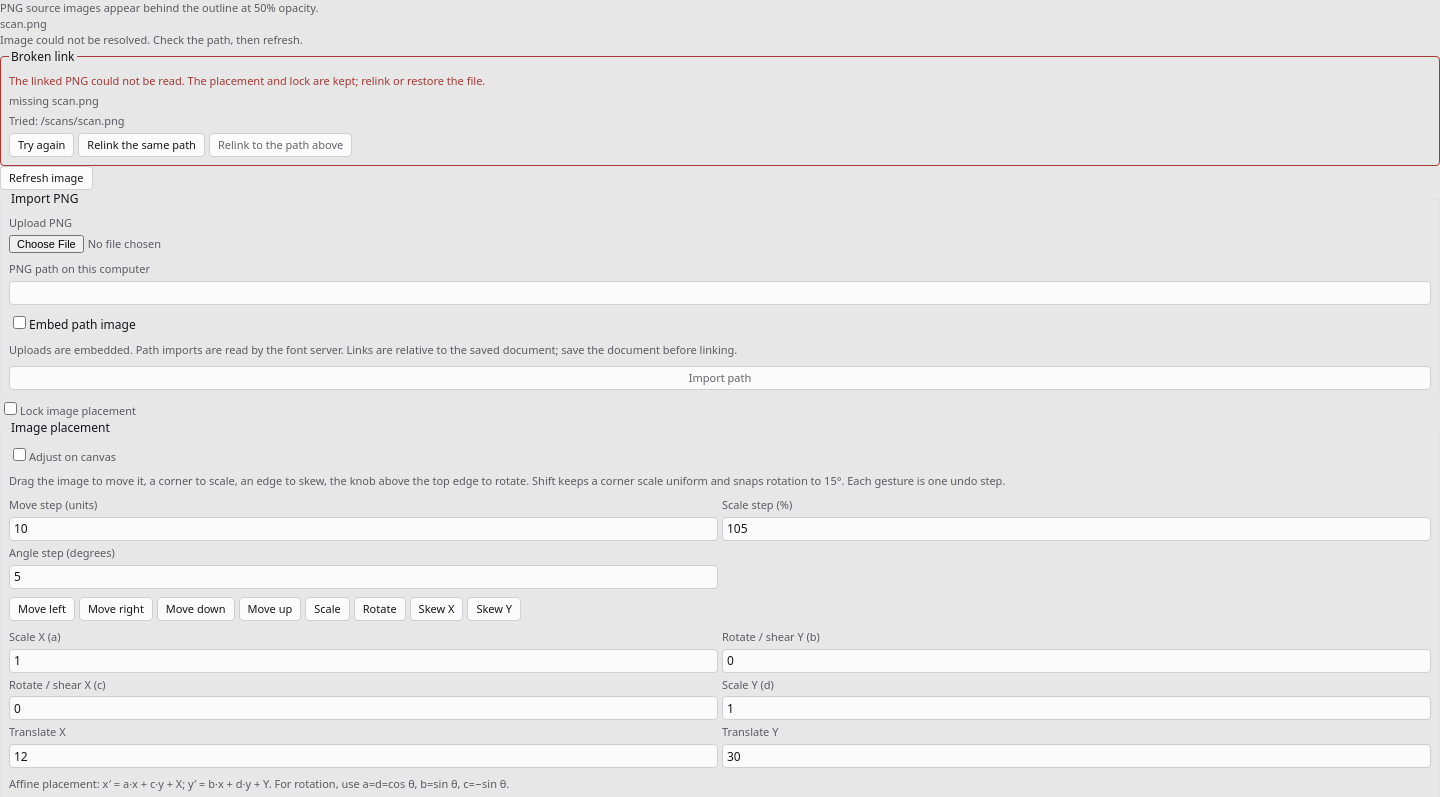
offers the resolved path and relinks a broken link in one import
The image size is (1440, 797).
Check: the text "Tried: /scans/scan.png" is shown, box [9, 113, 124, 128]
Check: the text "Broken link" is shown, box [9, 48, 76, 65]
Click the button "Relink the same path" at (142,145), box [78, 133, 205, 157]
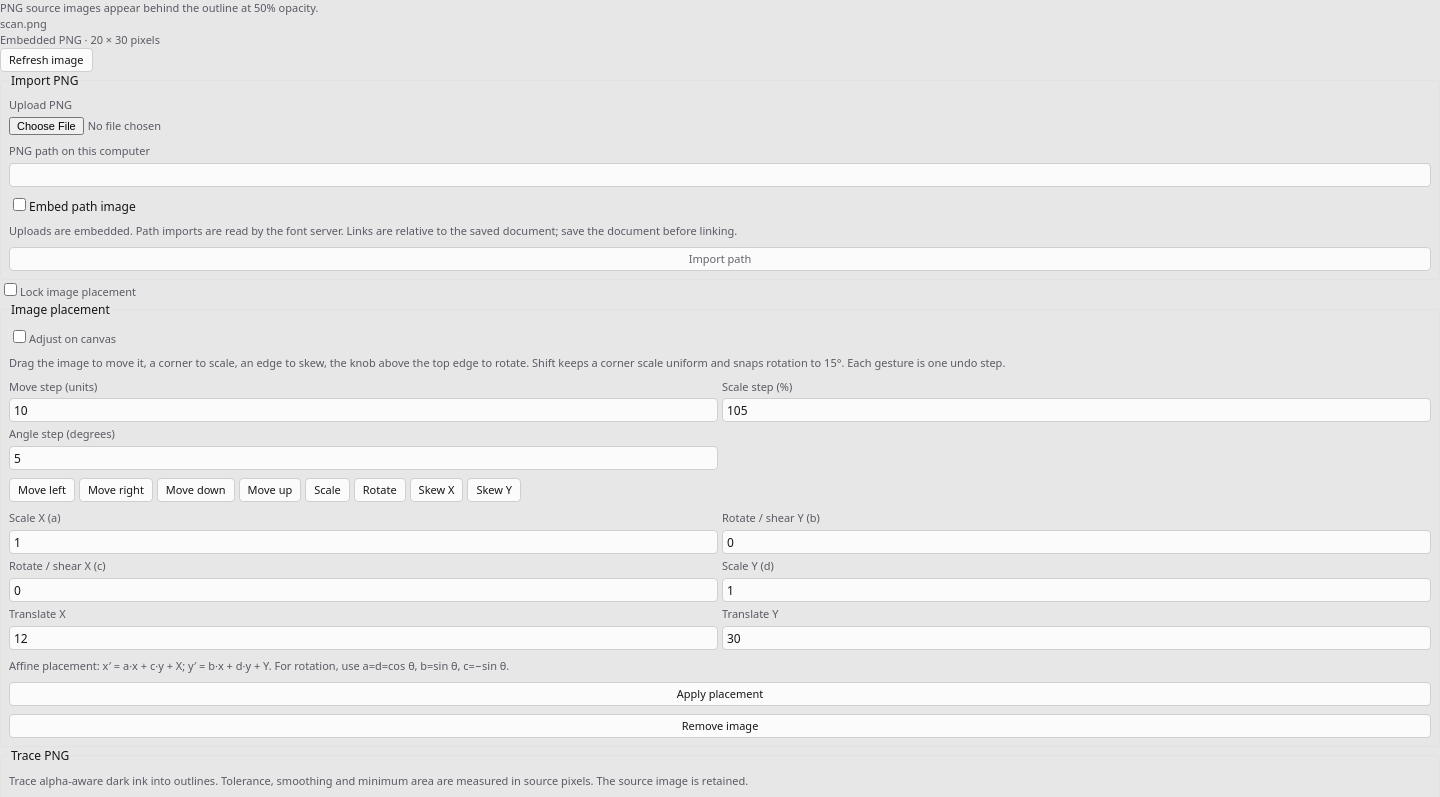
Check: the text "Embedded PNG · 20 × 30 pixels" is shown, box [0, 32, 160, 47]
